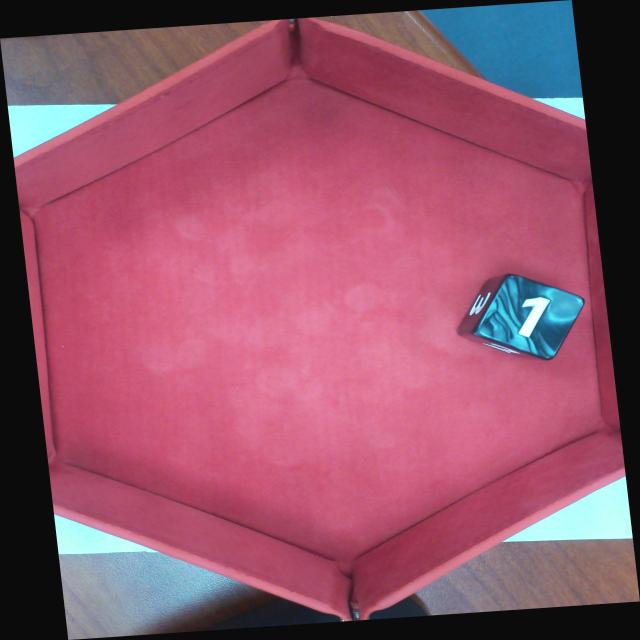dice: (476, 272, 586, 360)
